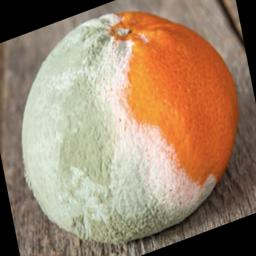Orange Rotten: (6, 13, 256, 249)
